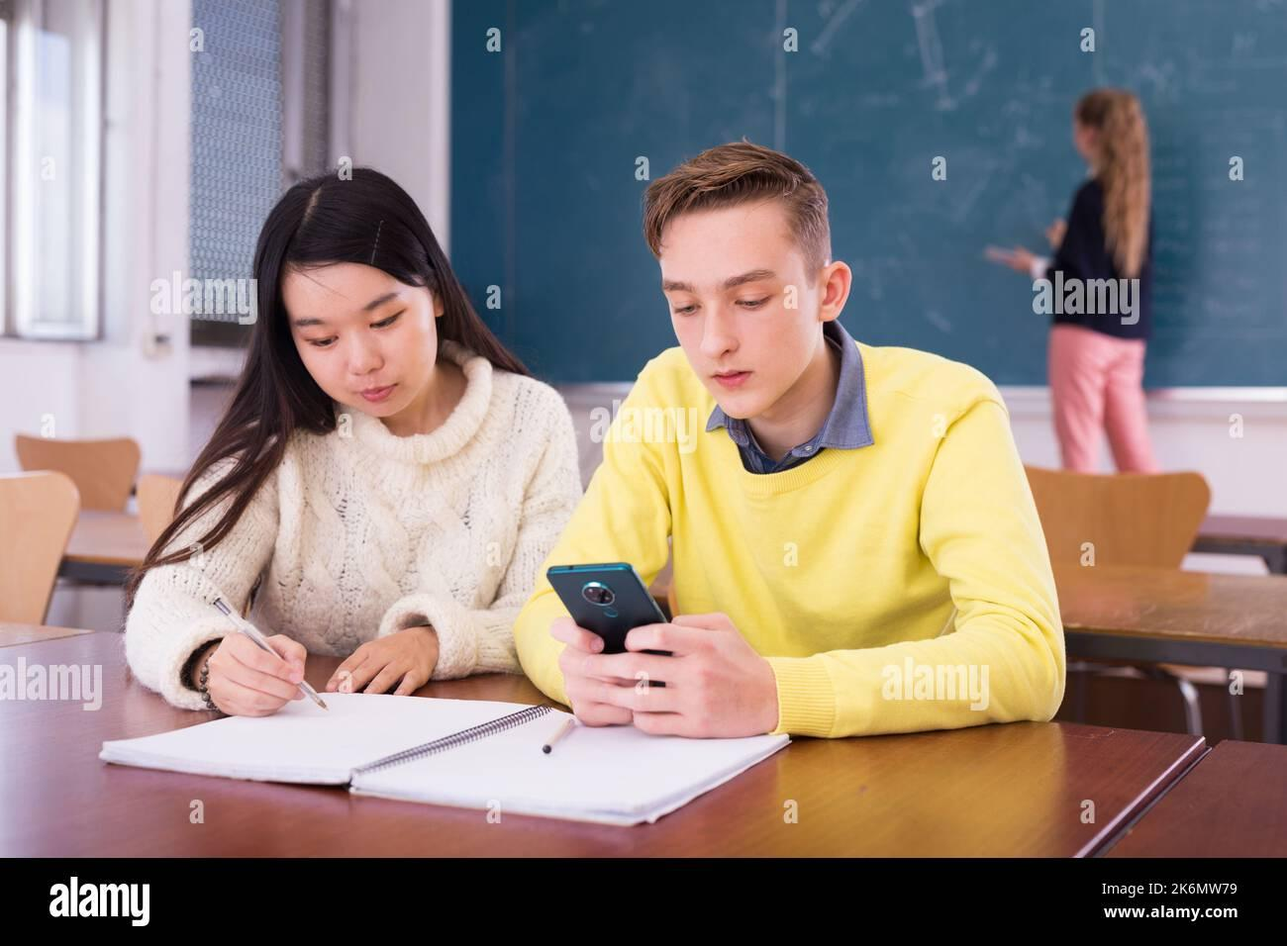phone: (514, 141, 1058, 729)
study: (117, 161, 558, 725)
